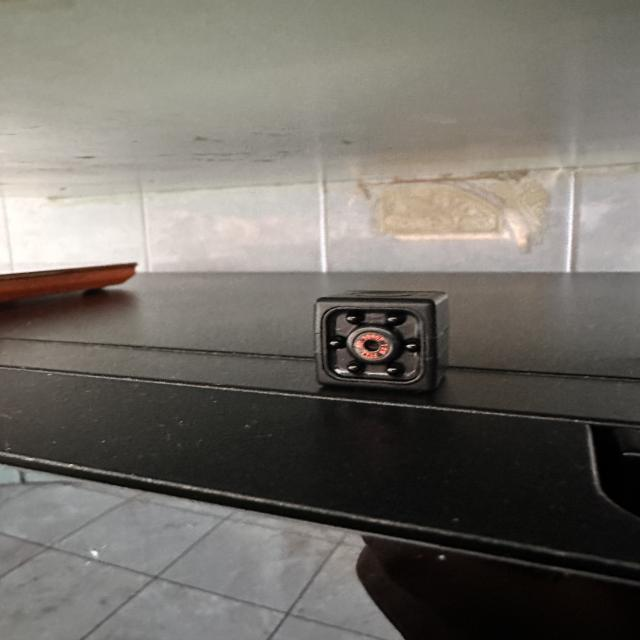hidden camera: (347, 327, 398, 363)
